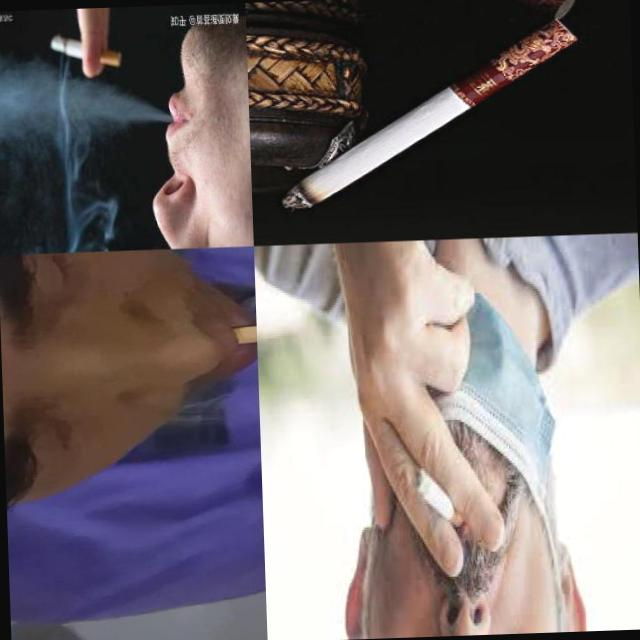smoke: (274, 15, 586, 213), (412, 464, 463, 529), (50, 31, 122, 69)
